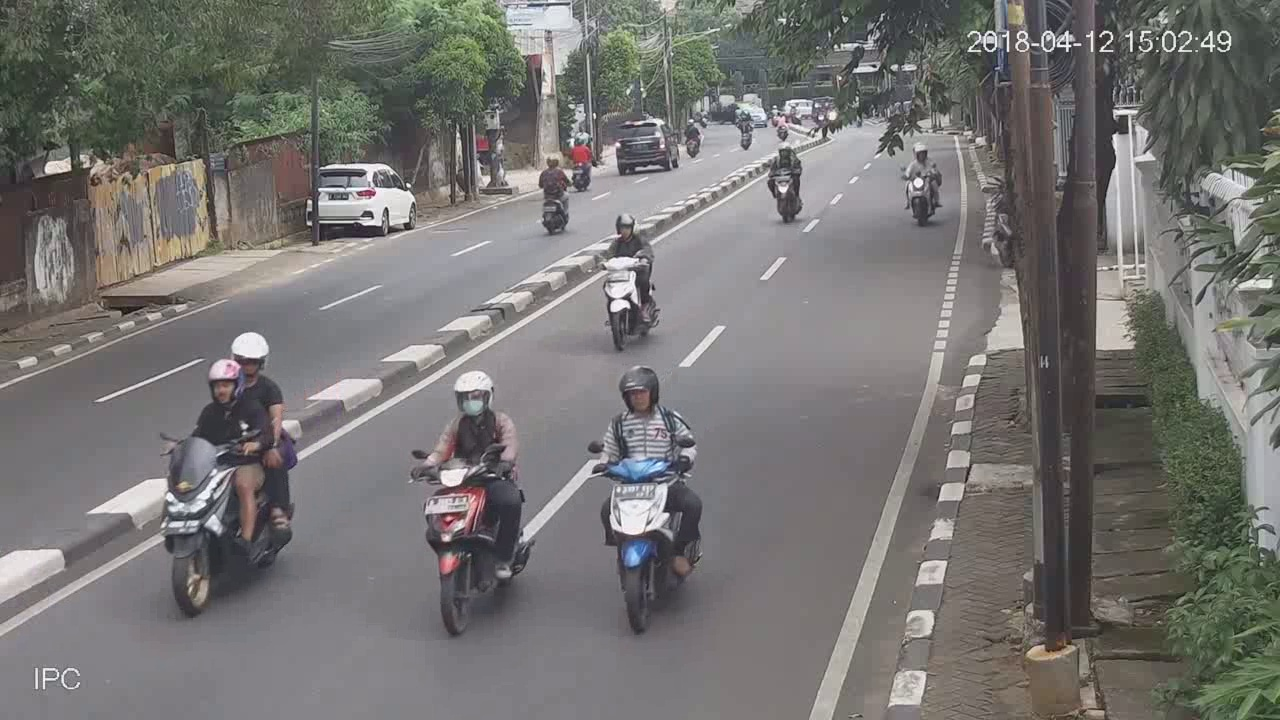car: (308, 159, 419, 238), (612, 116, 682, 176)
motorcycle: (157, 331, 304, 618), (412, 369, 535, 639), (587, 364, 705, 638), (600, 209, 661, 354), (899, 137, 946, 230), (766, 138, 805, 227), (537, 149, 574, 237), (569, 130, 596, 196)
